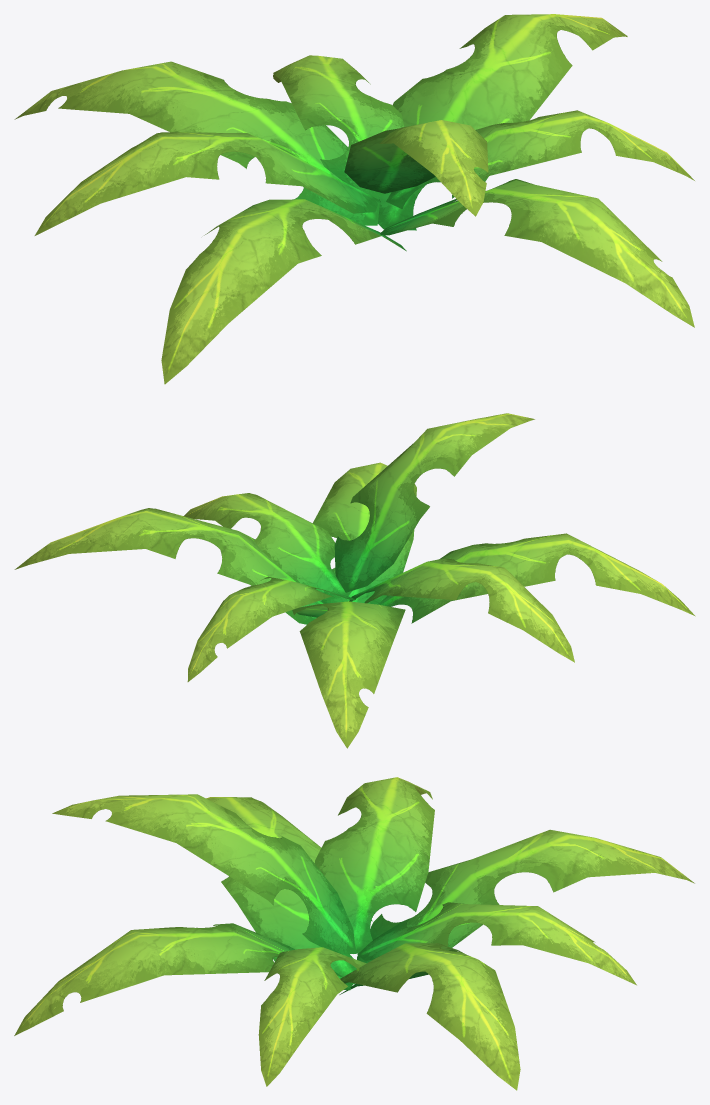
File: Foliage.fbx
The picture shows the model from 3 angles, top to bottom: view 1: azimuth 30°, elevation 25°; view 2: azimuth 150°, elevation 25°; view 3: azimuth 270°, elevation 25°; orthographic projection. The views are drawn at different scales.
Parts seen in each view (by area): view 1: SimpleFoliage; view 2: SimpleFoliage; view 3: SimpleFoliage.
Part boxes in pixels (x1,y1,x2,y2): SimpleFoliage: (14,14,694,384); SimpleFoliage: (14,413,695,748); SimpleFoliage: (14,777,694,1090).
Bounding box in the file's own units: 136 × 36.27 × 132.
